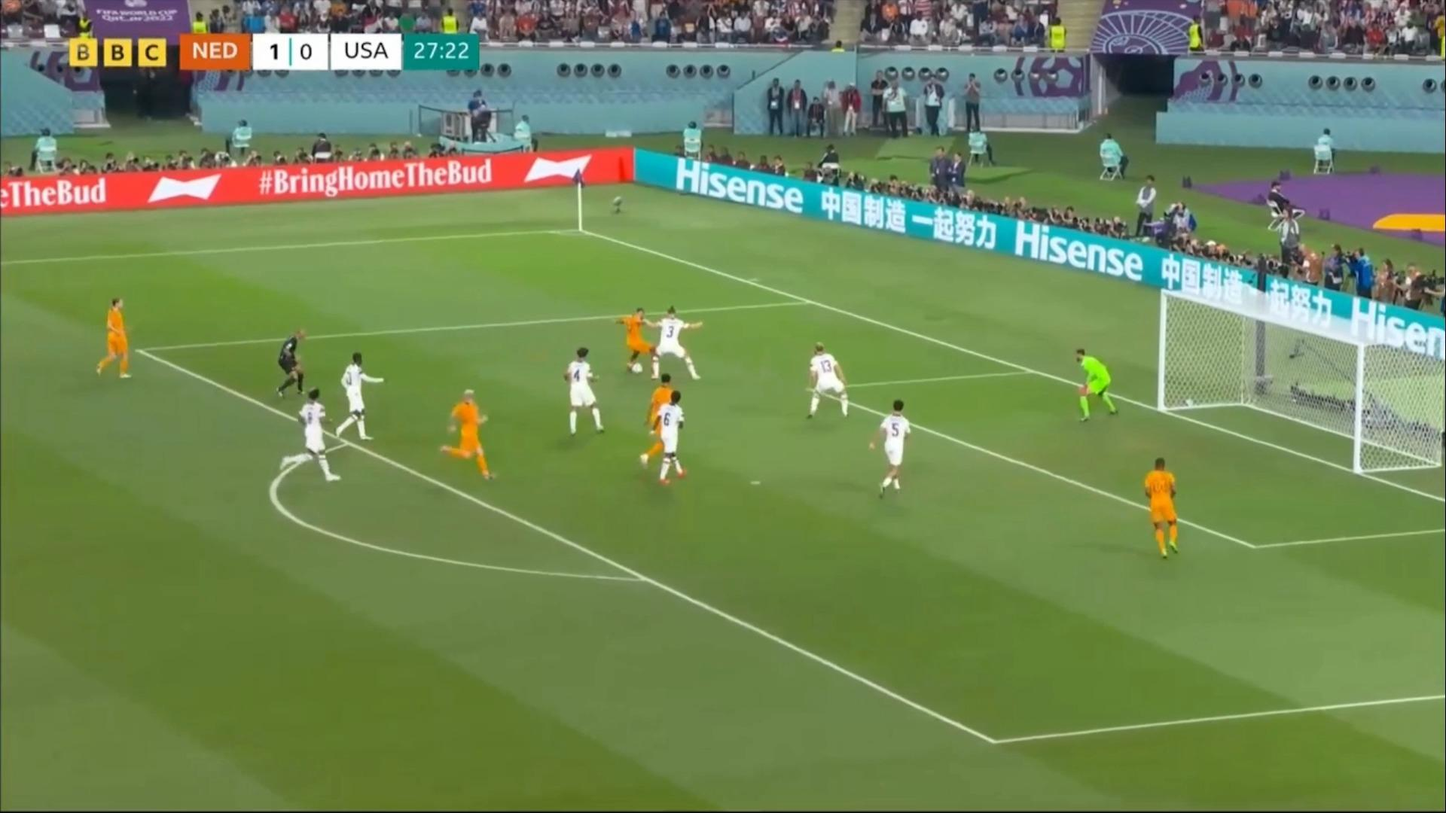Ball: (632, 360, 644, 375)
Player: (284, 389, 343, 490), (331, 347, 385, 448), (443, 388, 494, 488), (644, 302, 705, 382), (558, 345, 609, 439), (1141, 456, 1182, 561), (872, 400, 914, 502), (805, 340, 854, 425), (95, 293, 138, 384), (613, 303, 659, 379), (650, 390, 686, 486), (1073, 348, 1118, 423), (641, 373, 674, 475)
Ref: (274, 325, 306, 400)
